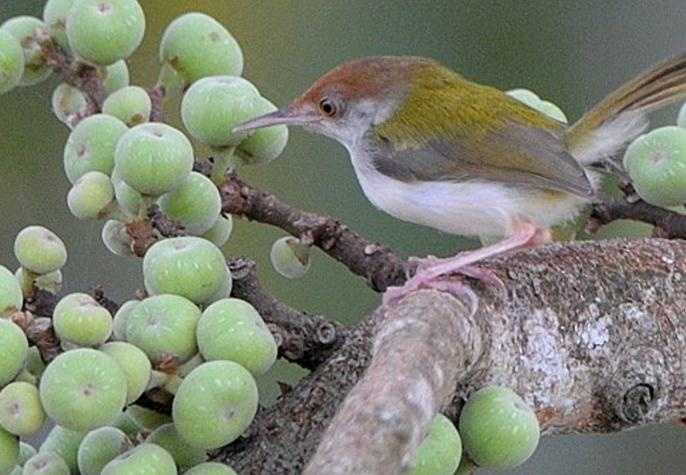tailorbird: (265, 51, 598, 242)
